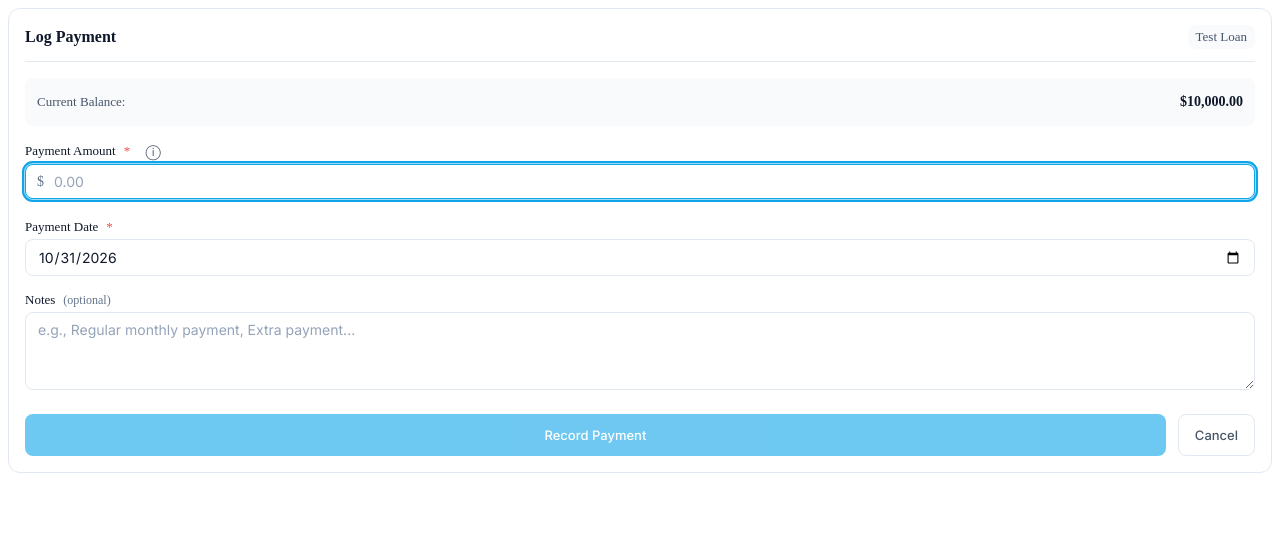
Test: LoanPaymentForm › should show error for negative amount
# Enter negative amount (the input sanitizes, so we test with 0)
Step 1. Type "0" into the field labelled "Payment Amount * ⓘ" → (640, 182), box [25,164,1255,199]
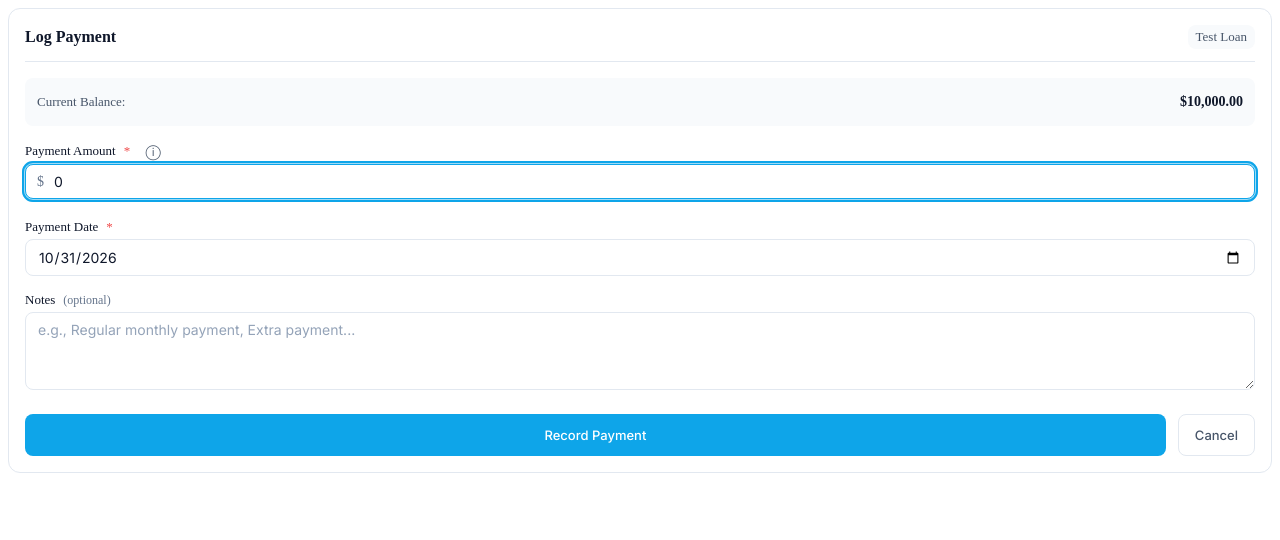
# Submit form
Step 2. Submit the form with class "loan-payment-form", box [25,142,1255,456]
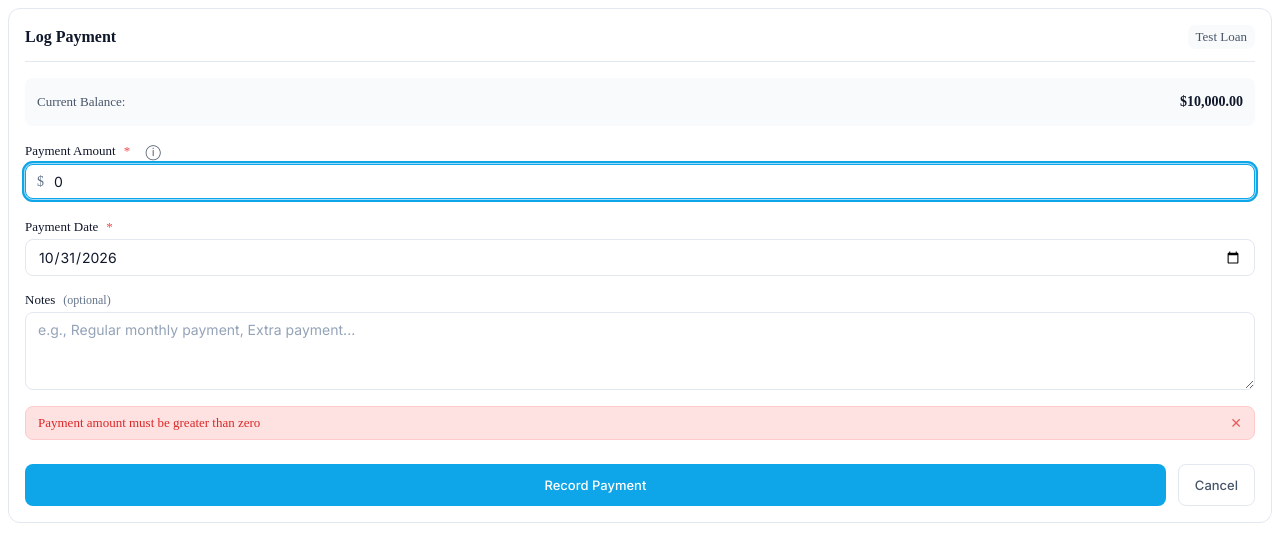
Result: the text "Payment amount must be greater than zero" is shown at [38,415,260,430]
